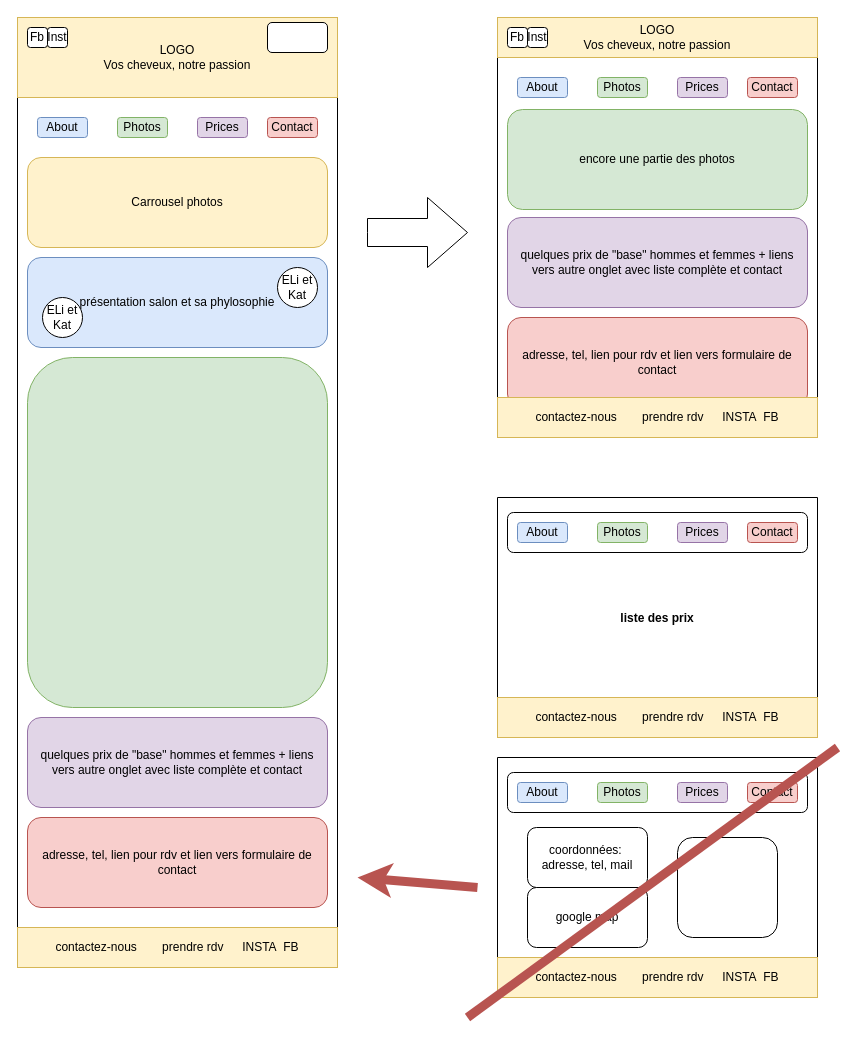
Some shapes in this 860 by 1040 pixel diagram are drawn without their labels. Each missing label, with the centre of its shape:
calendrier rdv: (727,887)
Photos, vidéos, etc reviews? (pas pour 2022, trop tôt pour moi): (177,532)
RDV numéro tel: (297,37)
